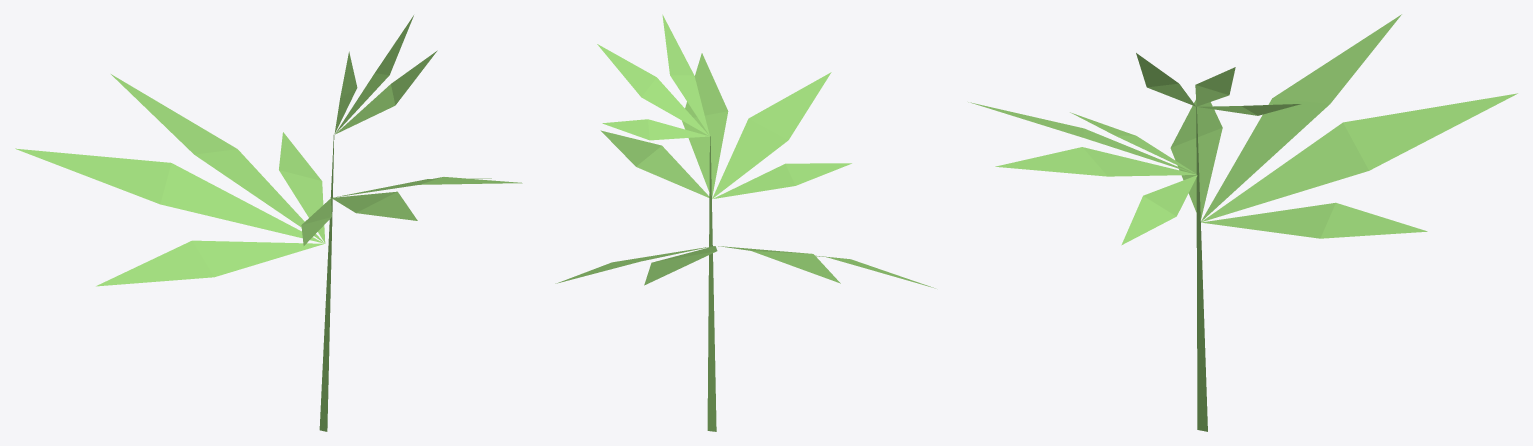
Rendered from Plant_i_OneS_09.fbx.
3 views of the same model, side by side, from view 1: azimuth 30°, elevation 25°; view 2: azimuth 150°, elevation 25°; view 3: azimuth 270°, elevation 25° (orthographic). The views are drawn at different scales.
Visible parts, largest first — view 1: Plant_i_OneS_09; view 2: Plant_i_OneS_09; view 3: Plant_i_OneS_09.
Part boxes in pixels (left/top/right/bottom): Plant_i_OneS_09: left=15, top=15, right=522, bottom=431; Plant_i_OneS_09: left=555, top=14, right=935, bottom=431; Plant_i_OneS_09: left=968, top=14, right=1517, bottom=431.
Bounding box in the file's own units: 0.2015 × 0.1925 × 0.2282.
